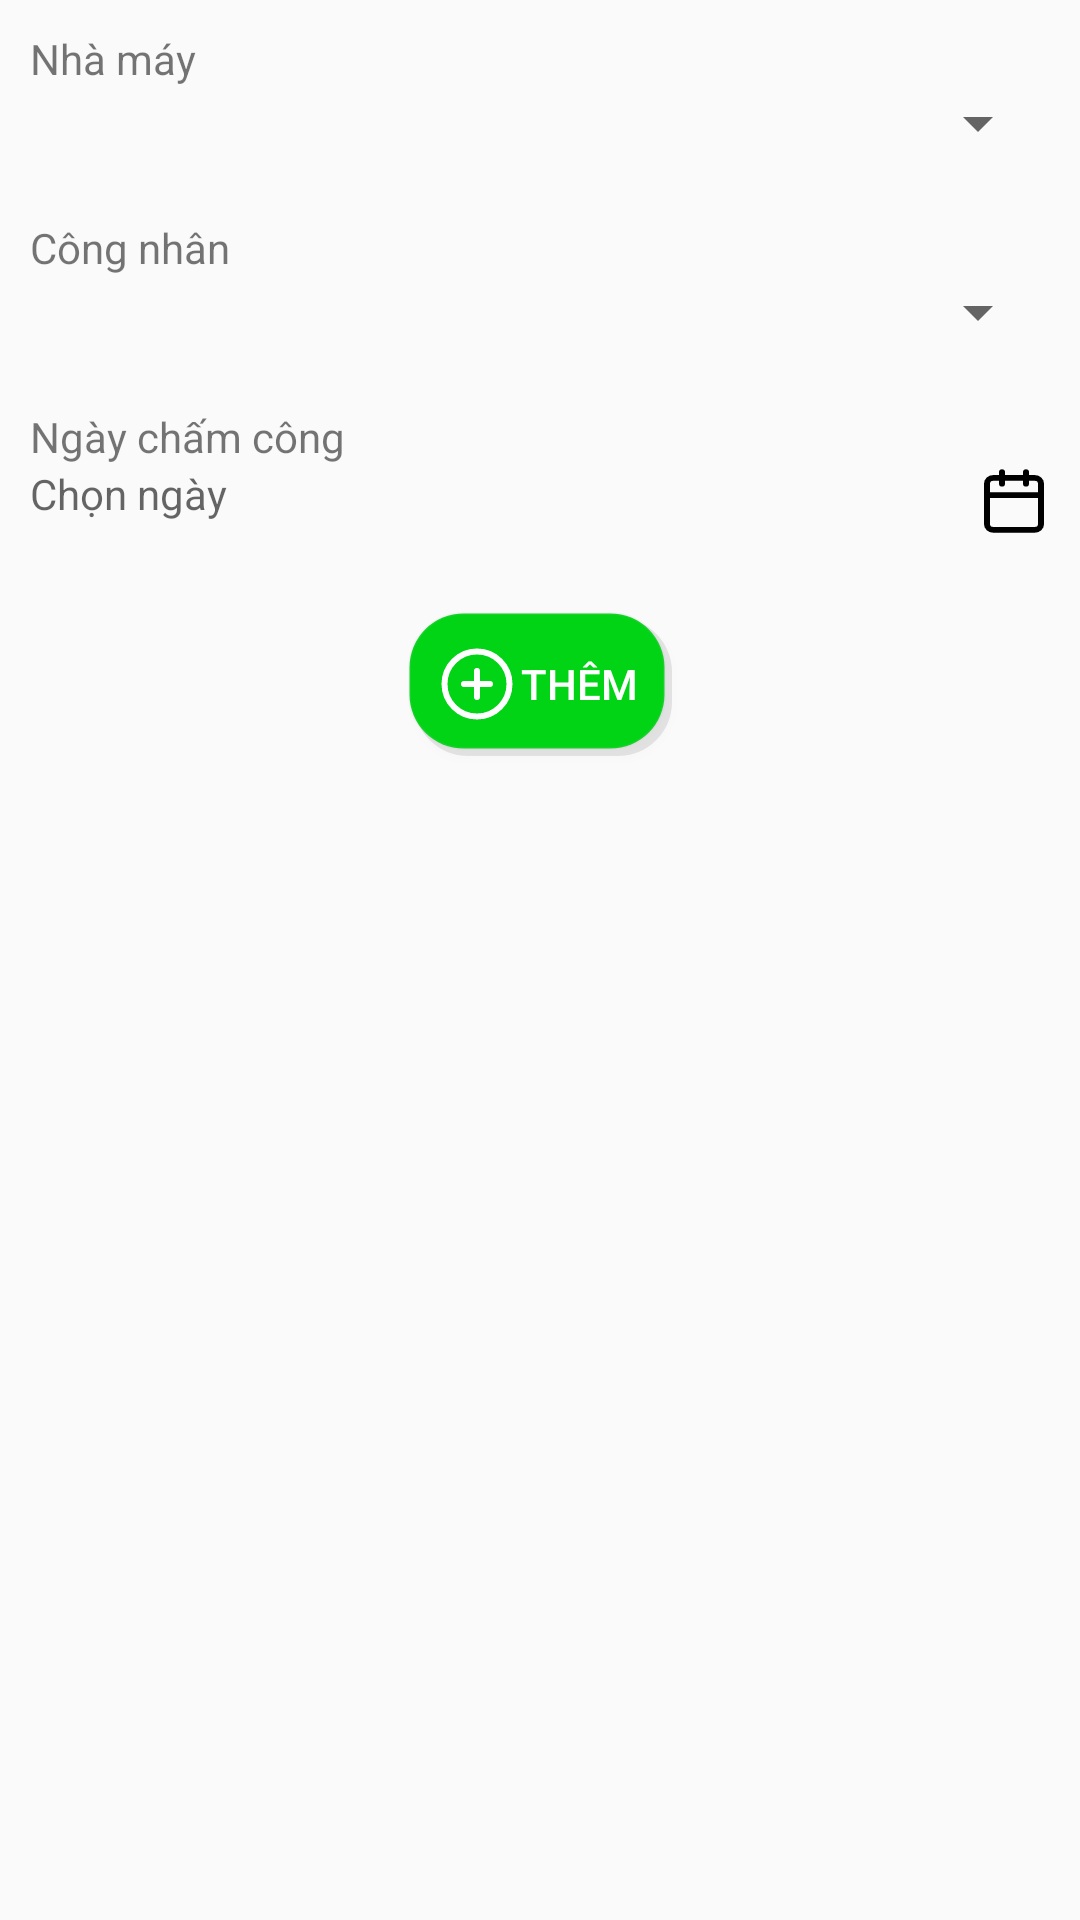

Named icons in this screenshot (1080*1920) and their bounding boxes, [x1=x1, y1=y1, x2=x2, y2=y2]:
calendar today: [x1=984, y1=469, x2=1044, y2=533]
